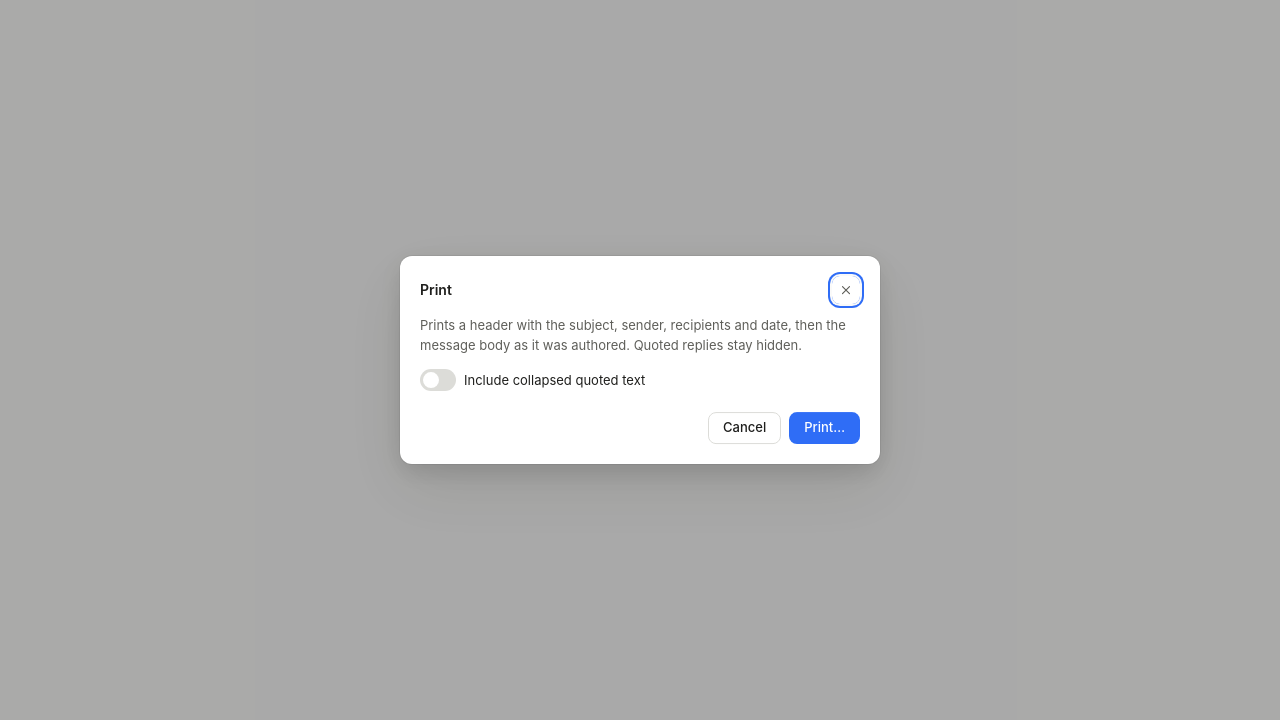
Print dialog (P9.3) › describes what prints and starts with quoted text excluded
Click the switch at [438, 380], box [420,369,456,391]
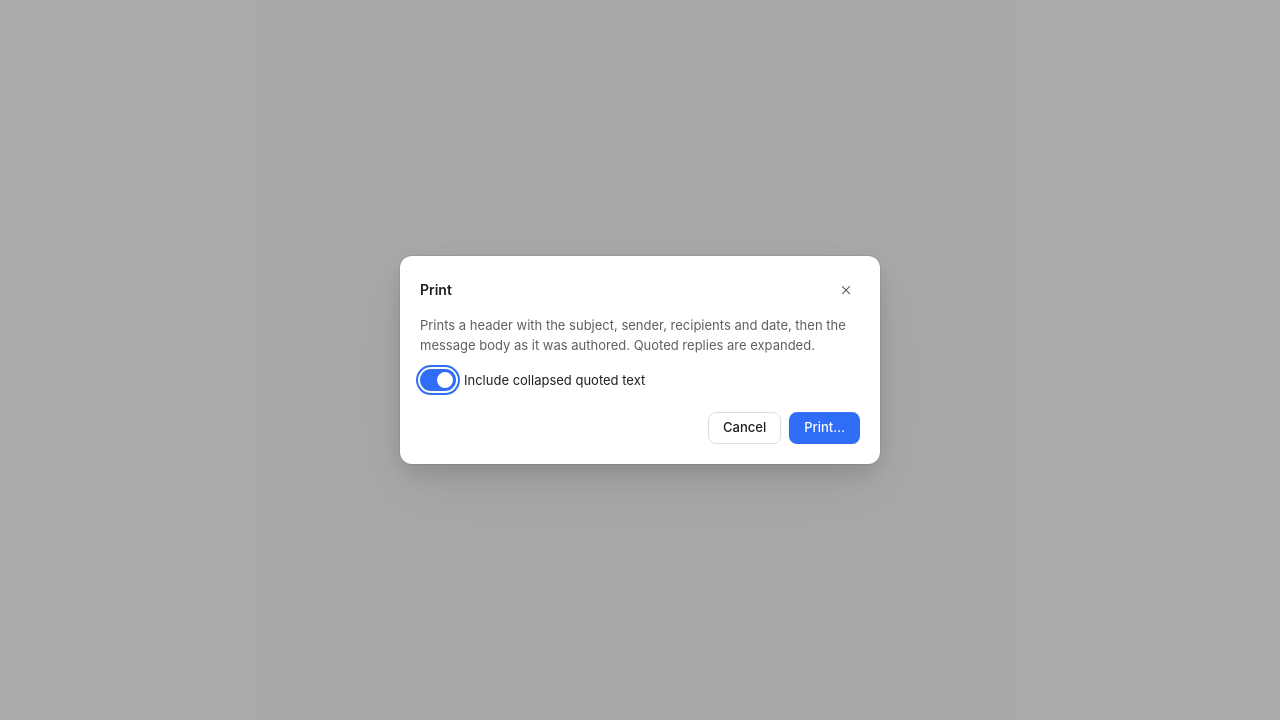
Expected: the text "Quoted replies are expanded." is shown, [630,337,815,353]
